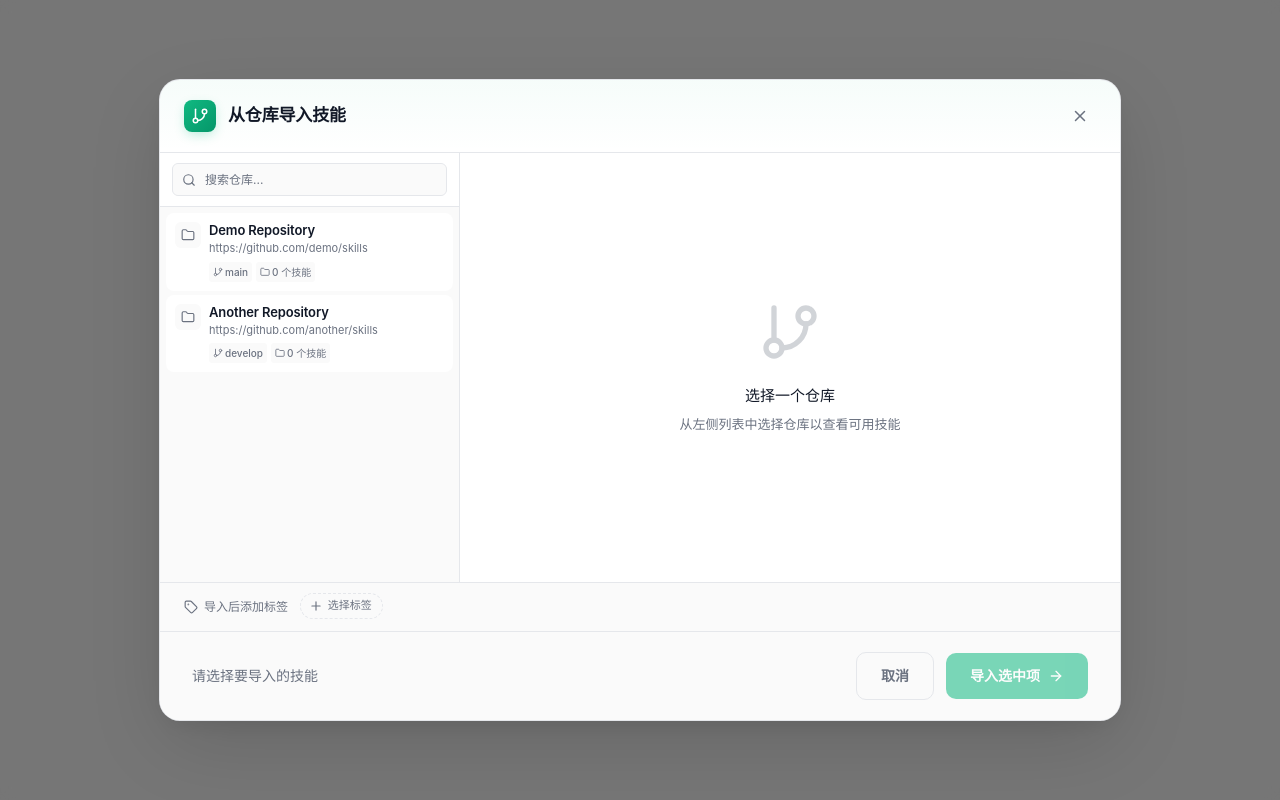
Scenario: RepositorySelectDialog › selects all skills with "Select All" button
This screenshot has width=1280, height=800.
Click the button "Demo Repository https://github.com/demo/skills main 0 个技能" at (310, 252), box x1=166 y1=213 x2=453 y2=291
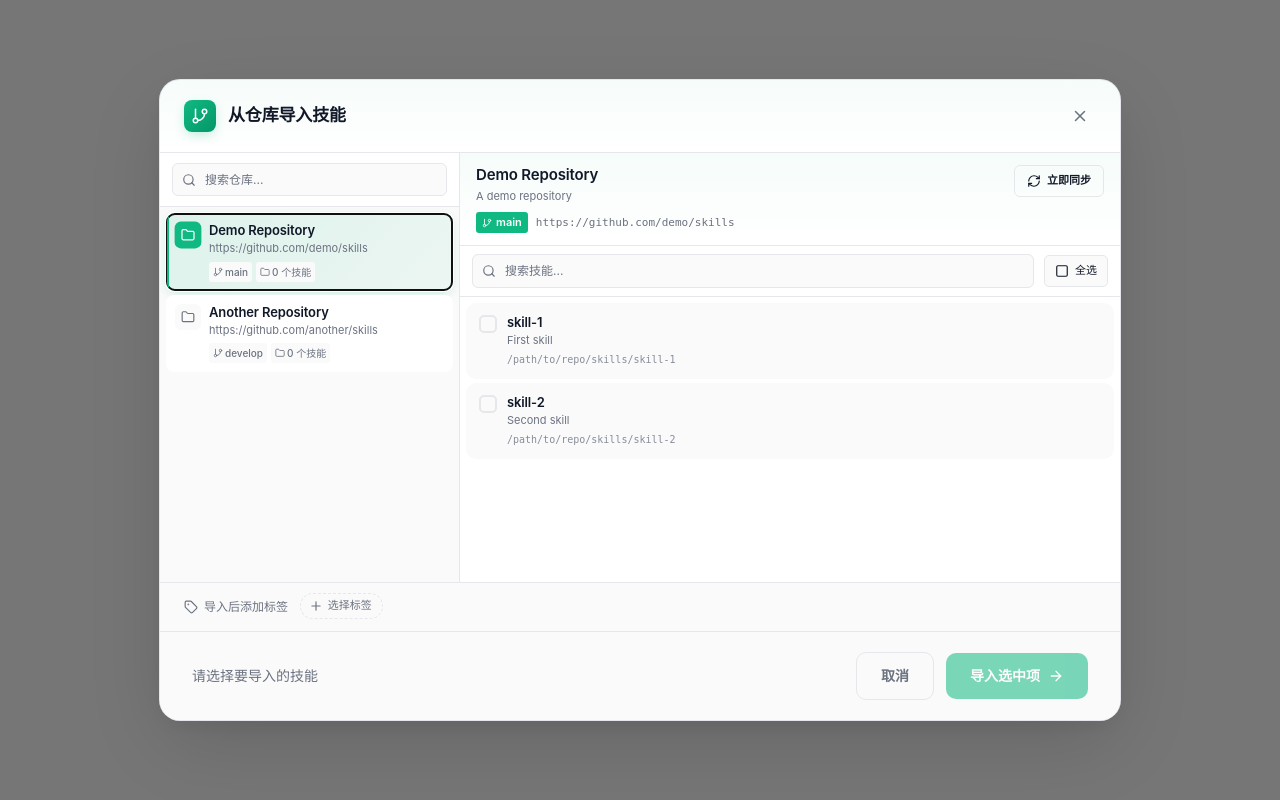
Check: the text "skill-1" is shown, box x1=507 y1=314 x2=542 y2=330
Click the button "全选" at (1076, 271), box x1=1044 y1=255 x2=1108 y2=287
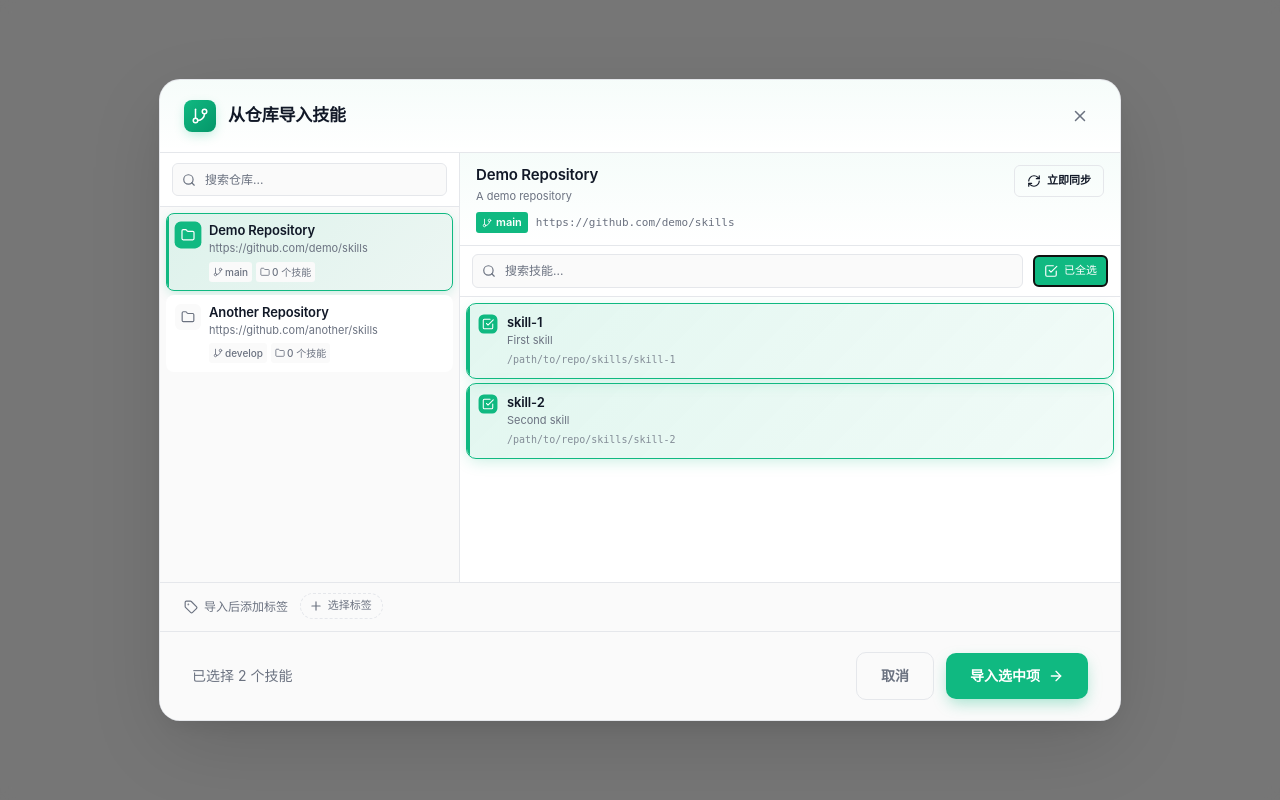
Check: the button "导入选中项" is enabled, box x1=946 y1=653 x2=1088 y2=699
